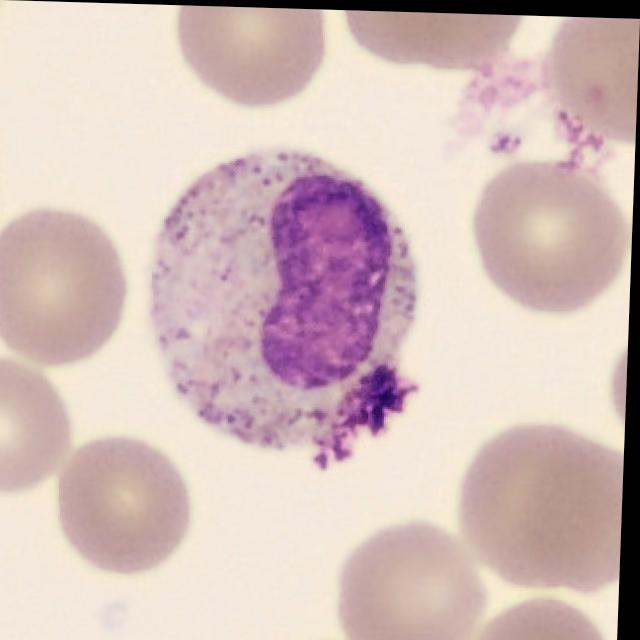Metamielocito: (150, 149, 422, 468)
